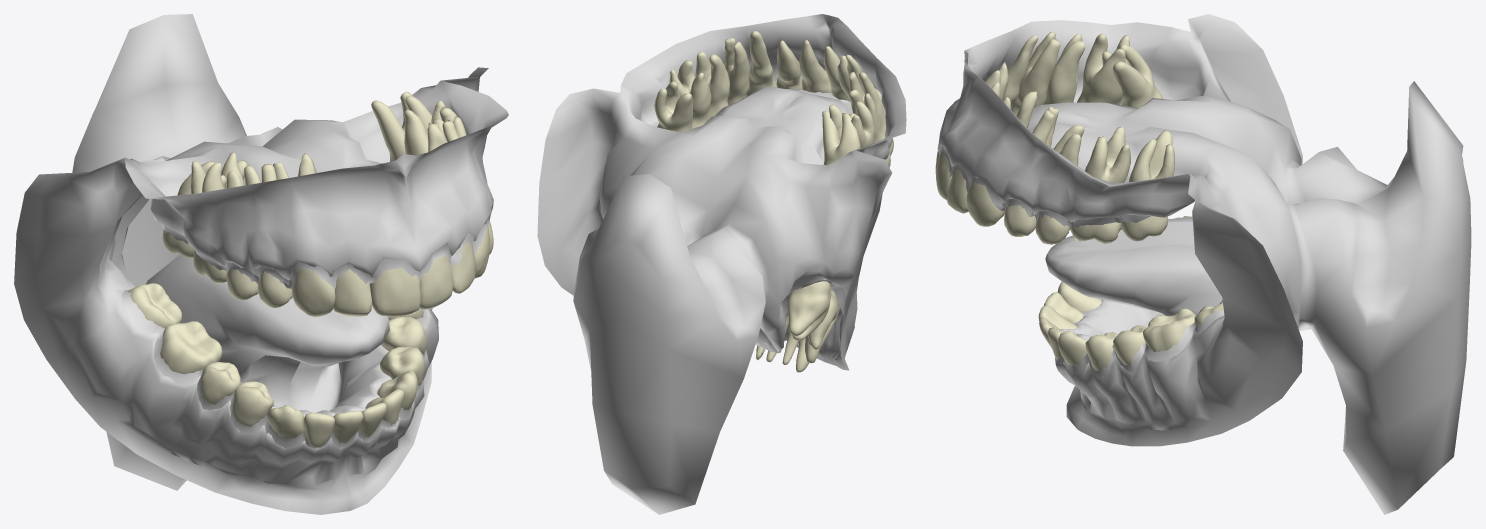
File: 2022-09-18_mouth_sketchfab.fbx
3 renders of one model, left to right at view 1: azimuth 30°, elevation 25°; view 2: azimuth 150°, elevation 25°; view 3: azimuth 270°, elevation 25°, orthographic. The views are drawn at different scales.
Visible parts, largest first — view 1: mouth, wet, teeth.027, teeth.001, teeth.010, teeth.013, teeth.008, teeth.028, teeth.009, teeth.025, teeth.002, teeth.026 (+14 smaller); view 2: mouth, teeth.028, teeth.008, teeth.007, teeth.014, teeth.006, teeth.005, teeth.004, teeth.002, teeth.013, teeth.003, teeth.011 (+3 smaller); view 3: mouth, wet, teeth.007, teeth.008, teeth.013, teeth.014, teeth.011, teeth.012, teeth.004, teeth.006, teeth.016, teeth.005 (+7 smaller).
Boxes of the visible parts, box(x1,y1,x2,y2) form: mouth: box(14, 14, 508, 514); wet: box(120, 216, 489, 448); teeth.027: box(160, 321, 222, 374); teeth.001: box(369, 268, 420, 316); teeth.010: box(292, 153, 335, 317); teeth.013: box(191, 152, 243, 283); teeth.008: box(371, 91, 432, 161); teeth.028: box(128, 283, 181, 328); teeth.009: box(333, 269, 371, 316); teeth.025: box(232, 381, 273, 426); teeth.002: box(420, 255, 453, 309); teeth.026: box(200, 362, 240, 404); mouth: box(537, 14, 906, 514); teeth.028: box(787, 281, 831, 340); teeth.008: box(654, 81, 692, 132); teeth.007: box(669, 60, 711, 128); teeth.014: box(822, 110, 860, 165); teeth.006: box(695, 52, 729, 116); teeth.005: box(724, 38, 749, 105); teeth.004: box(746, 31, 777, 95); teeth.002: box(799, 40, 831, 93); teeth.013: box(829, 101, 874, 147); teeth.003: box(776, 40, 802, 89); teeth.011: box(849, 72, 893, 155); mouth: box(937, 14, 1471, 514); wet: box(938, 91, 1224, 377); teeth.007: box(1070, 126, 1130, 243); teeth.008: box(1121, 130, 1174, 241); teeth.013: box(1077, 33, 1129, 104); teeth.014: box(1102, 44, 1163, 108); teeth.011: box(1011, 32, 1060, 115); teeth.012: box(1044, 34, 1085, 104); teeth.004: box(966, 91, 1037, 226); teeth.006: box(1035, 125, 1084, 244); teeth.016: box(1143, 308, 1196, 351); teeth.005: box(1004, 106, 1058, 236).
Size of the model in its own units: 10.47 by 11.46 by 12.06.
